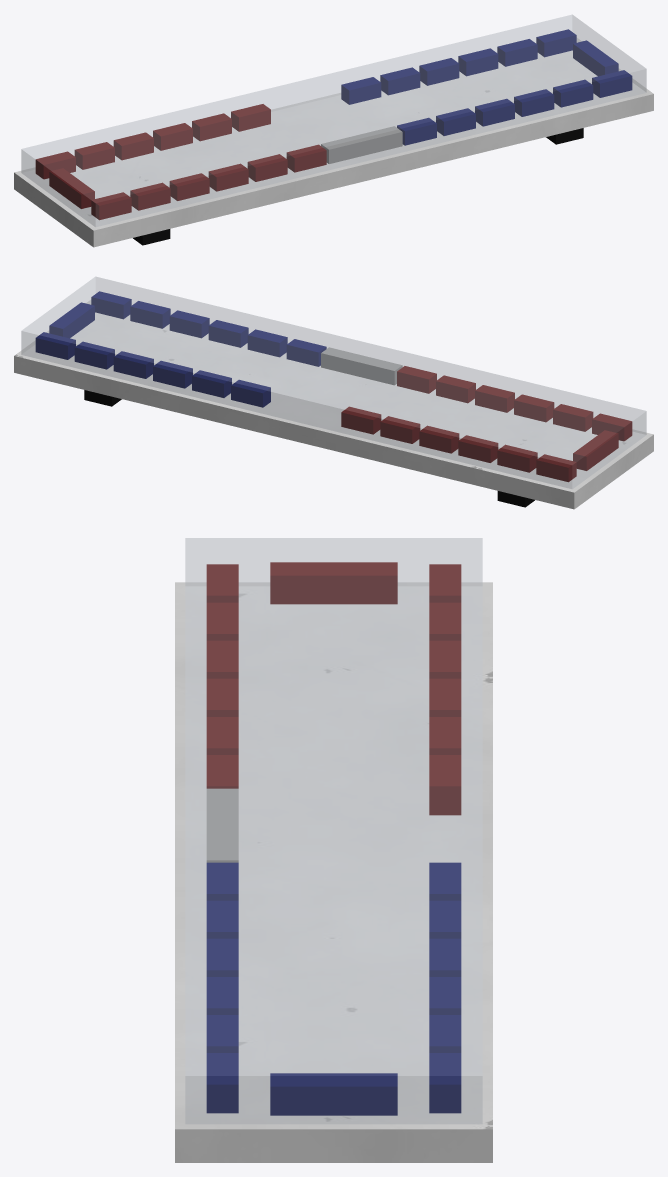
Rendered from PoliceLightBar.obj.
3 views of the same model, one above another, from view 1: azimuth 30°, elevation 25°; view 2: azimuth 150°, elevation 25°; view 3: azimuth 270°, elevation 25° (orthographic). The views are drawn at different scales.
Visible parts, largest first — view 1: LensClear, PaintBlack, LedRed, LedBlue, LedWhite, Rubber; view 2: LensClear, PaintBlack, LedRed, LedBlue, LedWhite, Rubber; view 3: LensClear, PaintBlack, LedBlue, LedRed, LedWhite.
Boxes of the visible parts, x1=… form: LensClear: x1=21, y1=14, x2=646, y2=226; PaintBlack: x1=14, y1=38, x2=653, y2=247; LedRed: x1=35, y1=104, x2=326, y2=220; LedBlue: x1=341, y1=29, x2=632, y2=145; LedWhite: x1=321, y1=126, x2=402, y2=163; Rubber: x1=133, y1=128, x2=583, y2=245; LensClear: x1=21, y1=276, x2=646, y2=488; PaintBlack: x1=14, y1=300, x2=653, y2=509; LedRed: x1=341, y1=366, x2=632, y2=482; LedBlue: x1=35, y1=291, x2=326, y2=407; LedWhite: x1=321, y1=347, x2=402, y2=385; Rubber: x1=84, y1=390, x2=534, y2=507; LensClear: x1=185, y1=538, x2=482, y2=1124; PaintBlack: x1=175, y1=582, x2=492, y2=1162; LedBlue: x1=206, y1=862, x2=461, y2=1115; LedRed: x1=206, y1=562, x2=461, y2=815; LedWhite: x1=206, y1=788, x2=238, y2=862.
Size of the model in its own units: 1.22 by 0.128 by 0.3.
6 materials, 1 textured.
